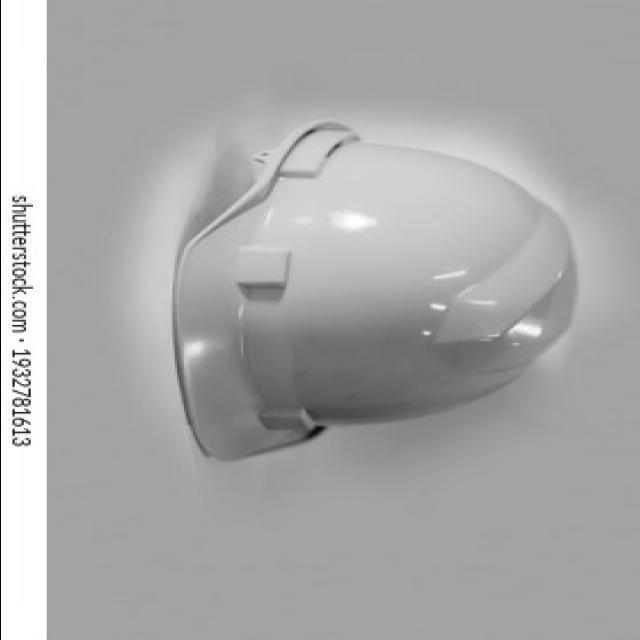safety_helmet: (174, 118, 576, 464)
